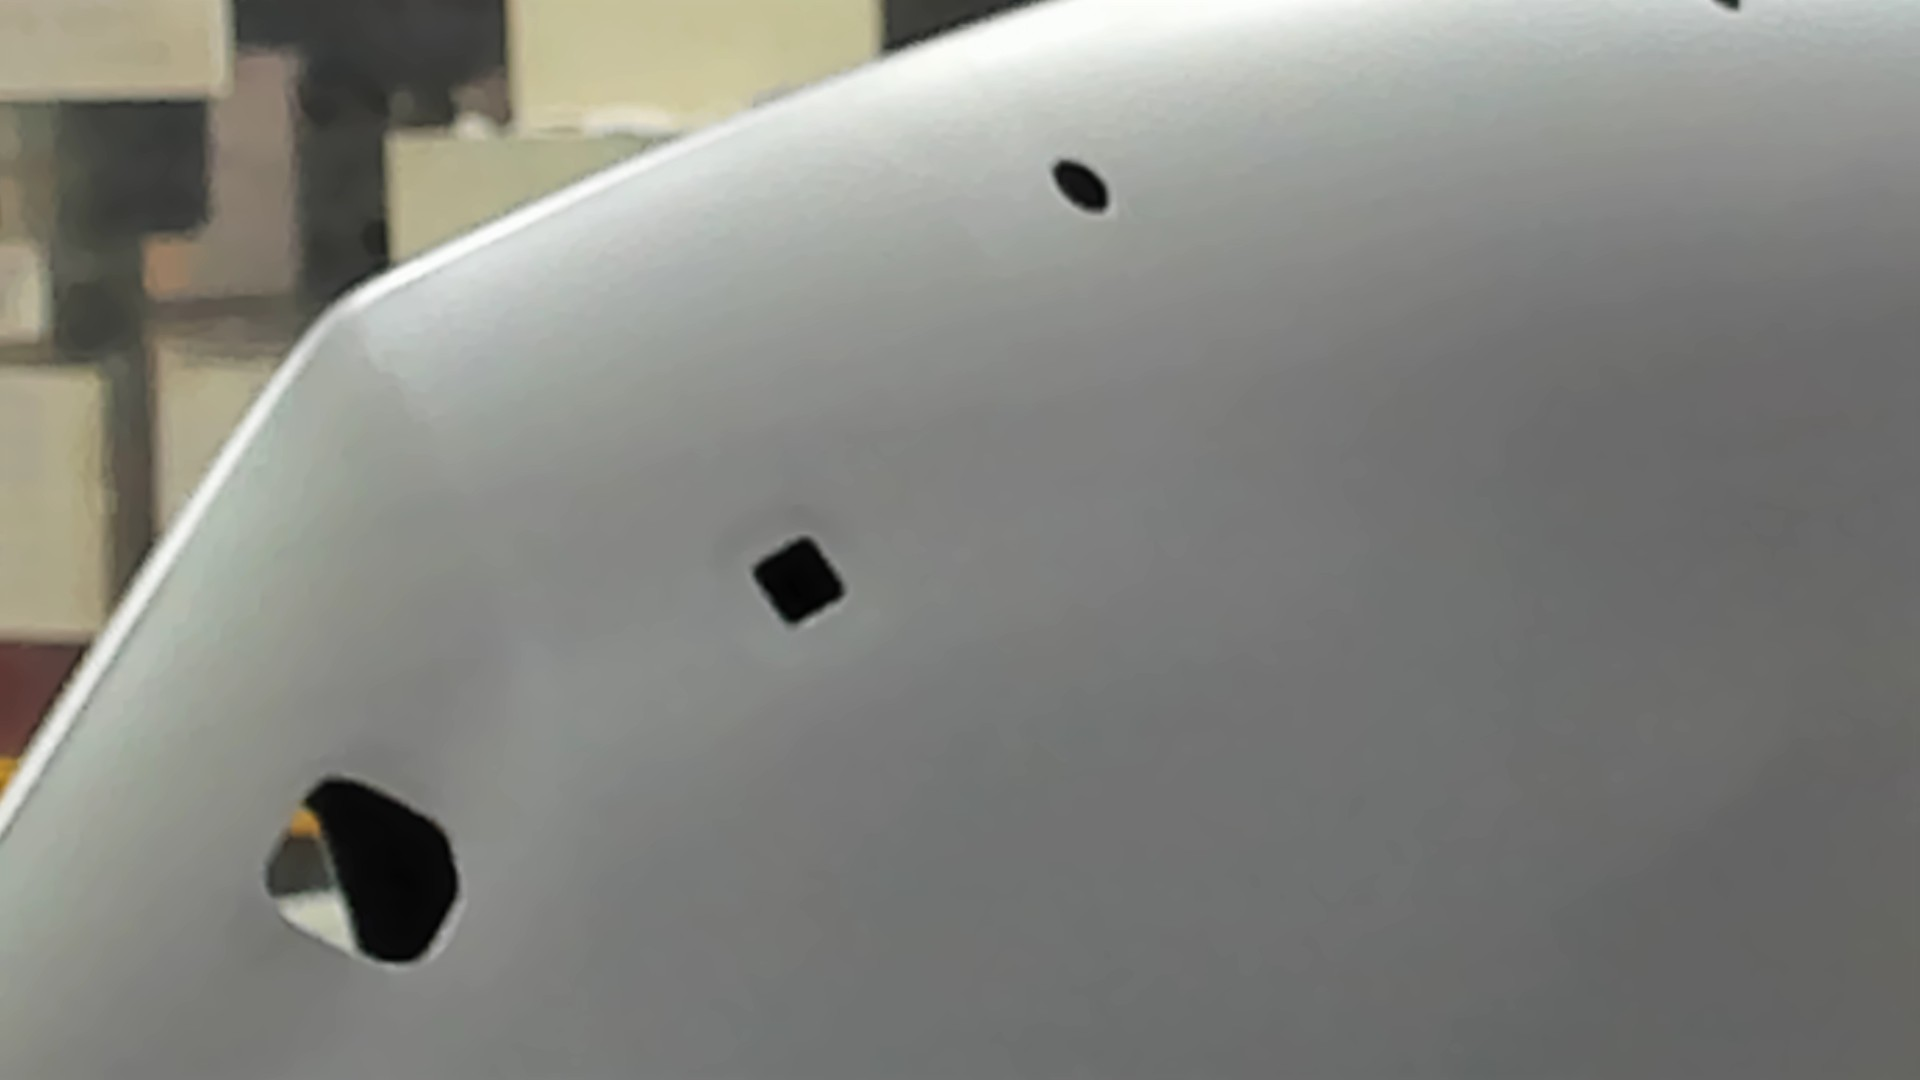chico: (1050, 156, 1114, 215), (1714, 1, 1745, 13)
grande: (260, 771, 465, 975)
mediano: (750, 531, 848, 633)
